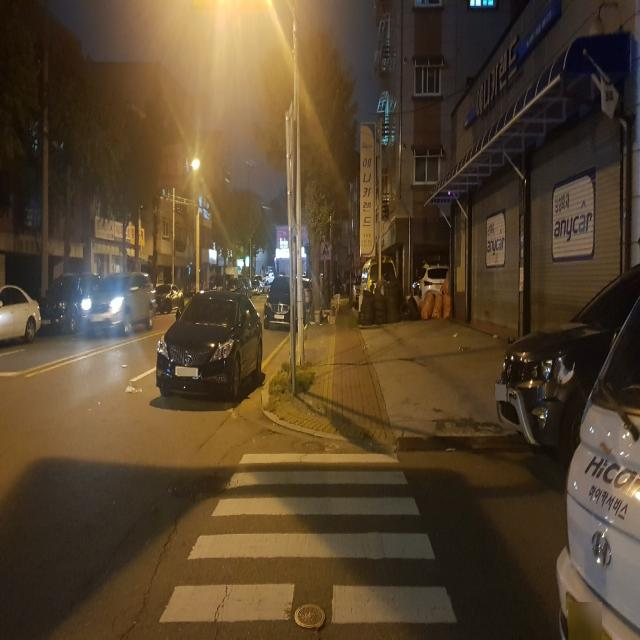횡단보도: (158, 449, 460, 628)
